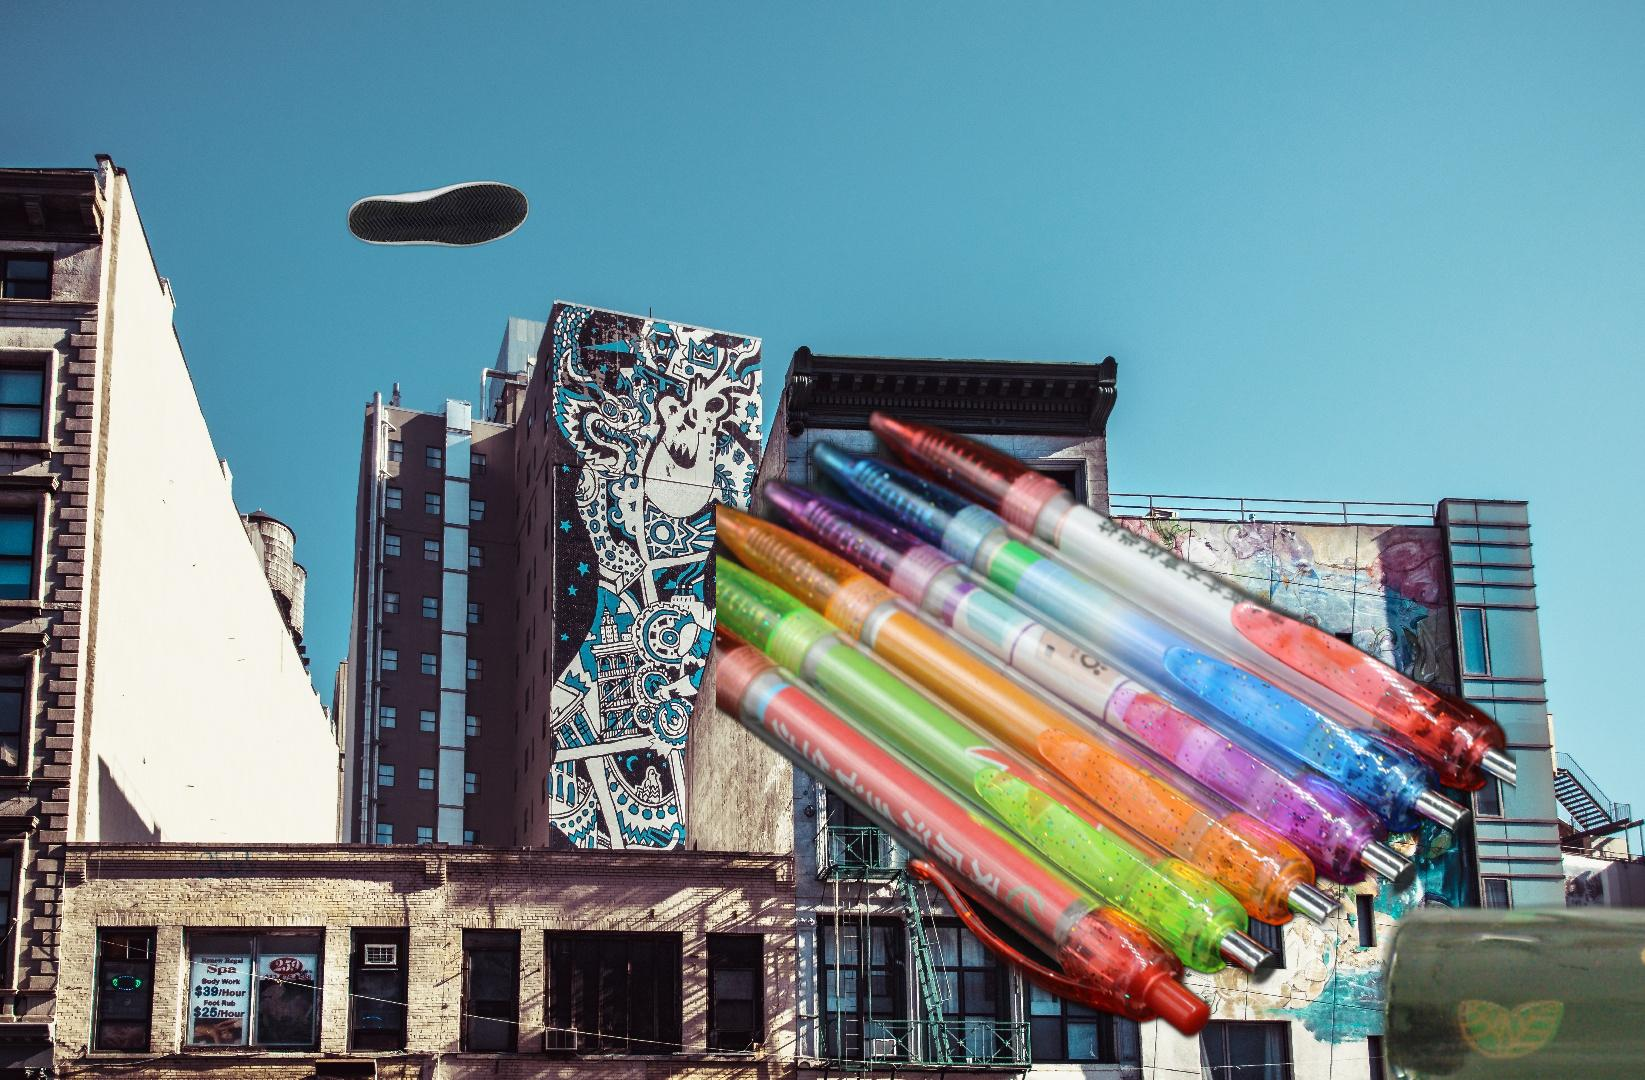battery: (1335, 890, 1645, 1080)
penholder: (716, 401, 1516, 1046)
shoes: (343, 178, 531, 250)
